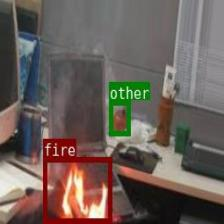fire: (43, 156, 110, 222)
